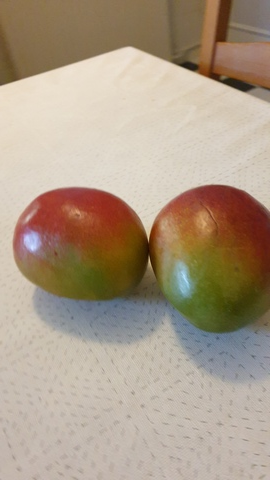Mango: (12, 186, 149, 300)
